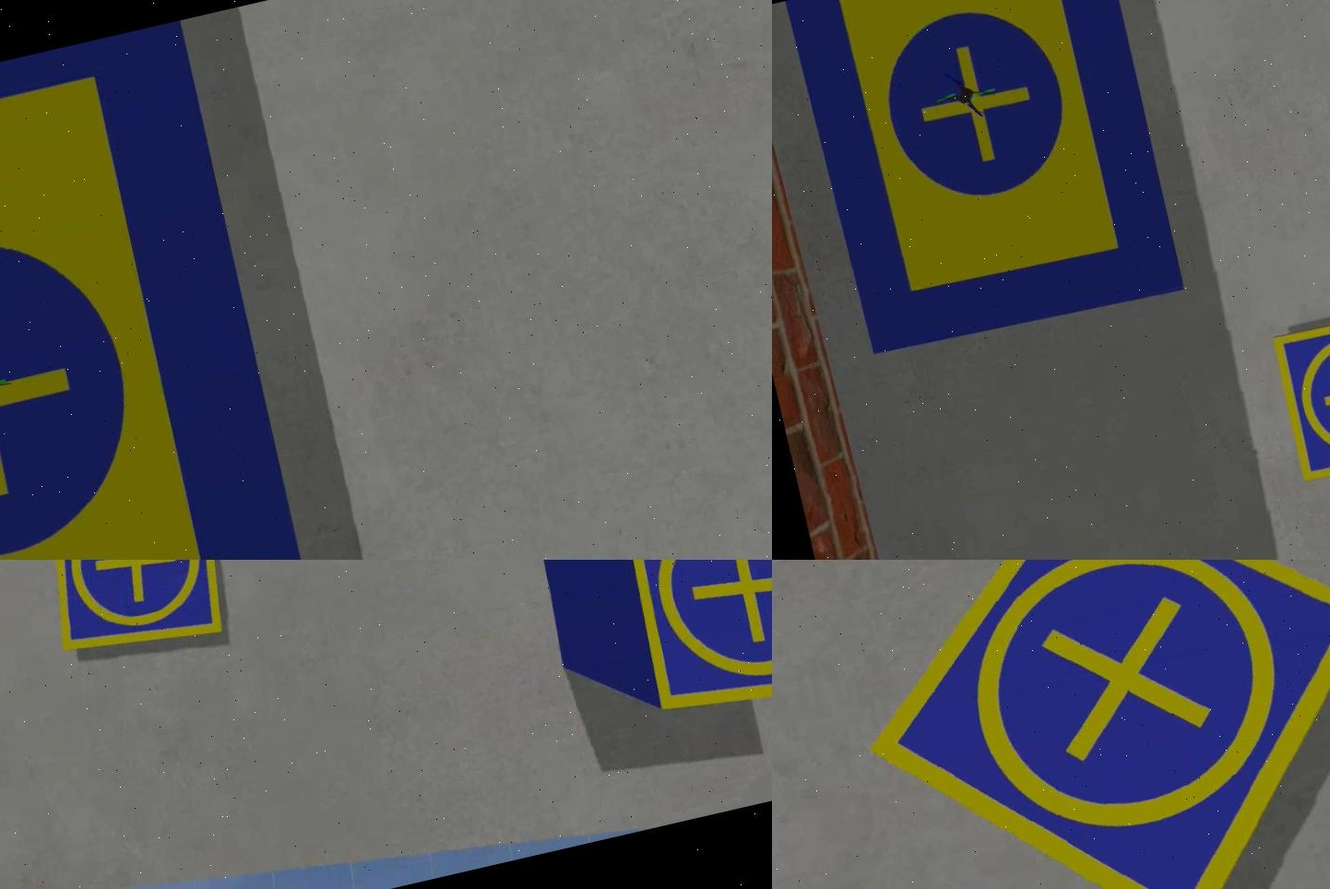large_base: (0, 19, 344, 561), (783, 1, 1185, 363)
small_base: (810, 561, 1328, 889), (610, 561, 771, 738), (27, 561, 238, 673), (1266, 302, 1328, 487)
